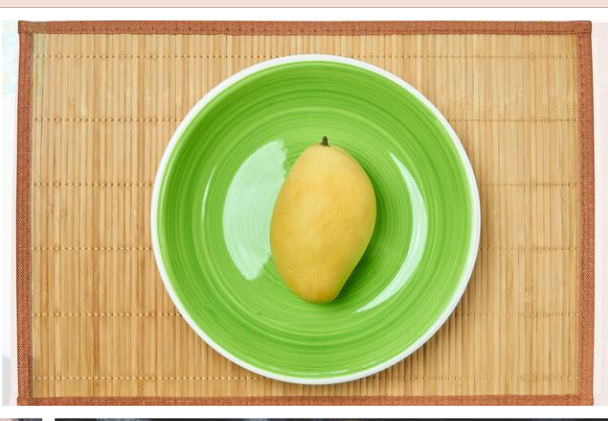mango: (270, 144, 379, 300)
